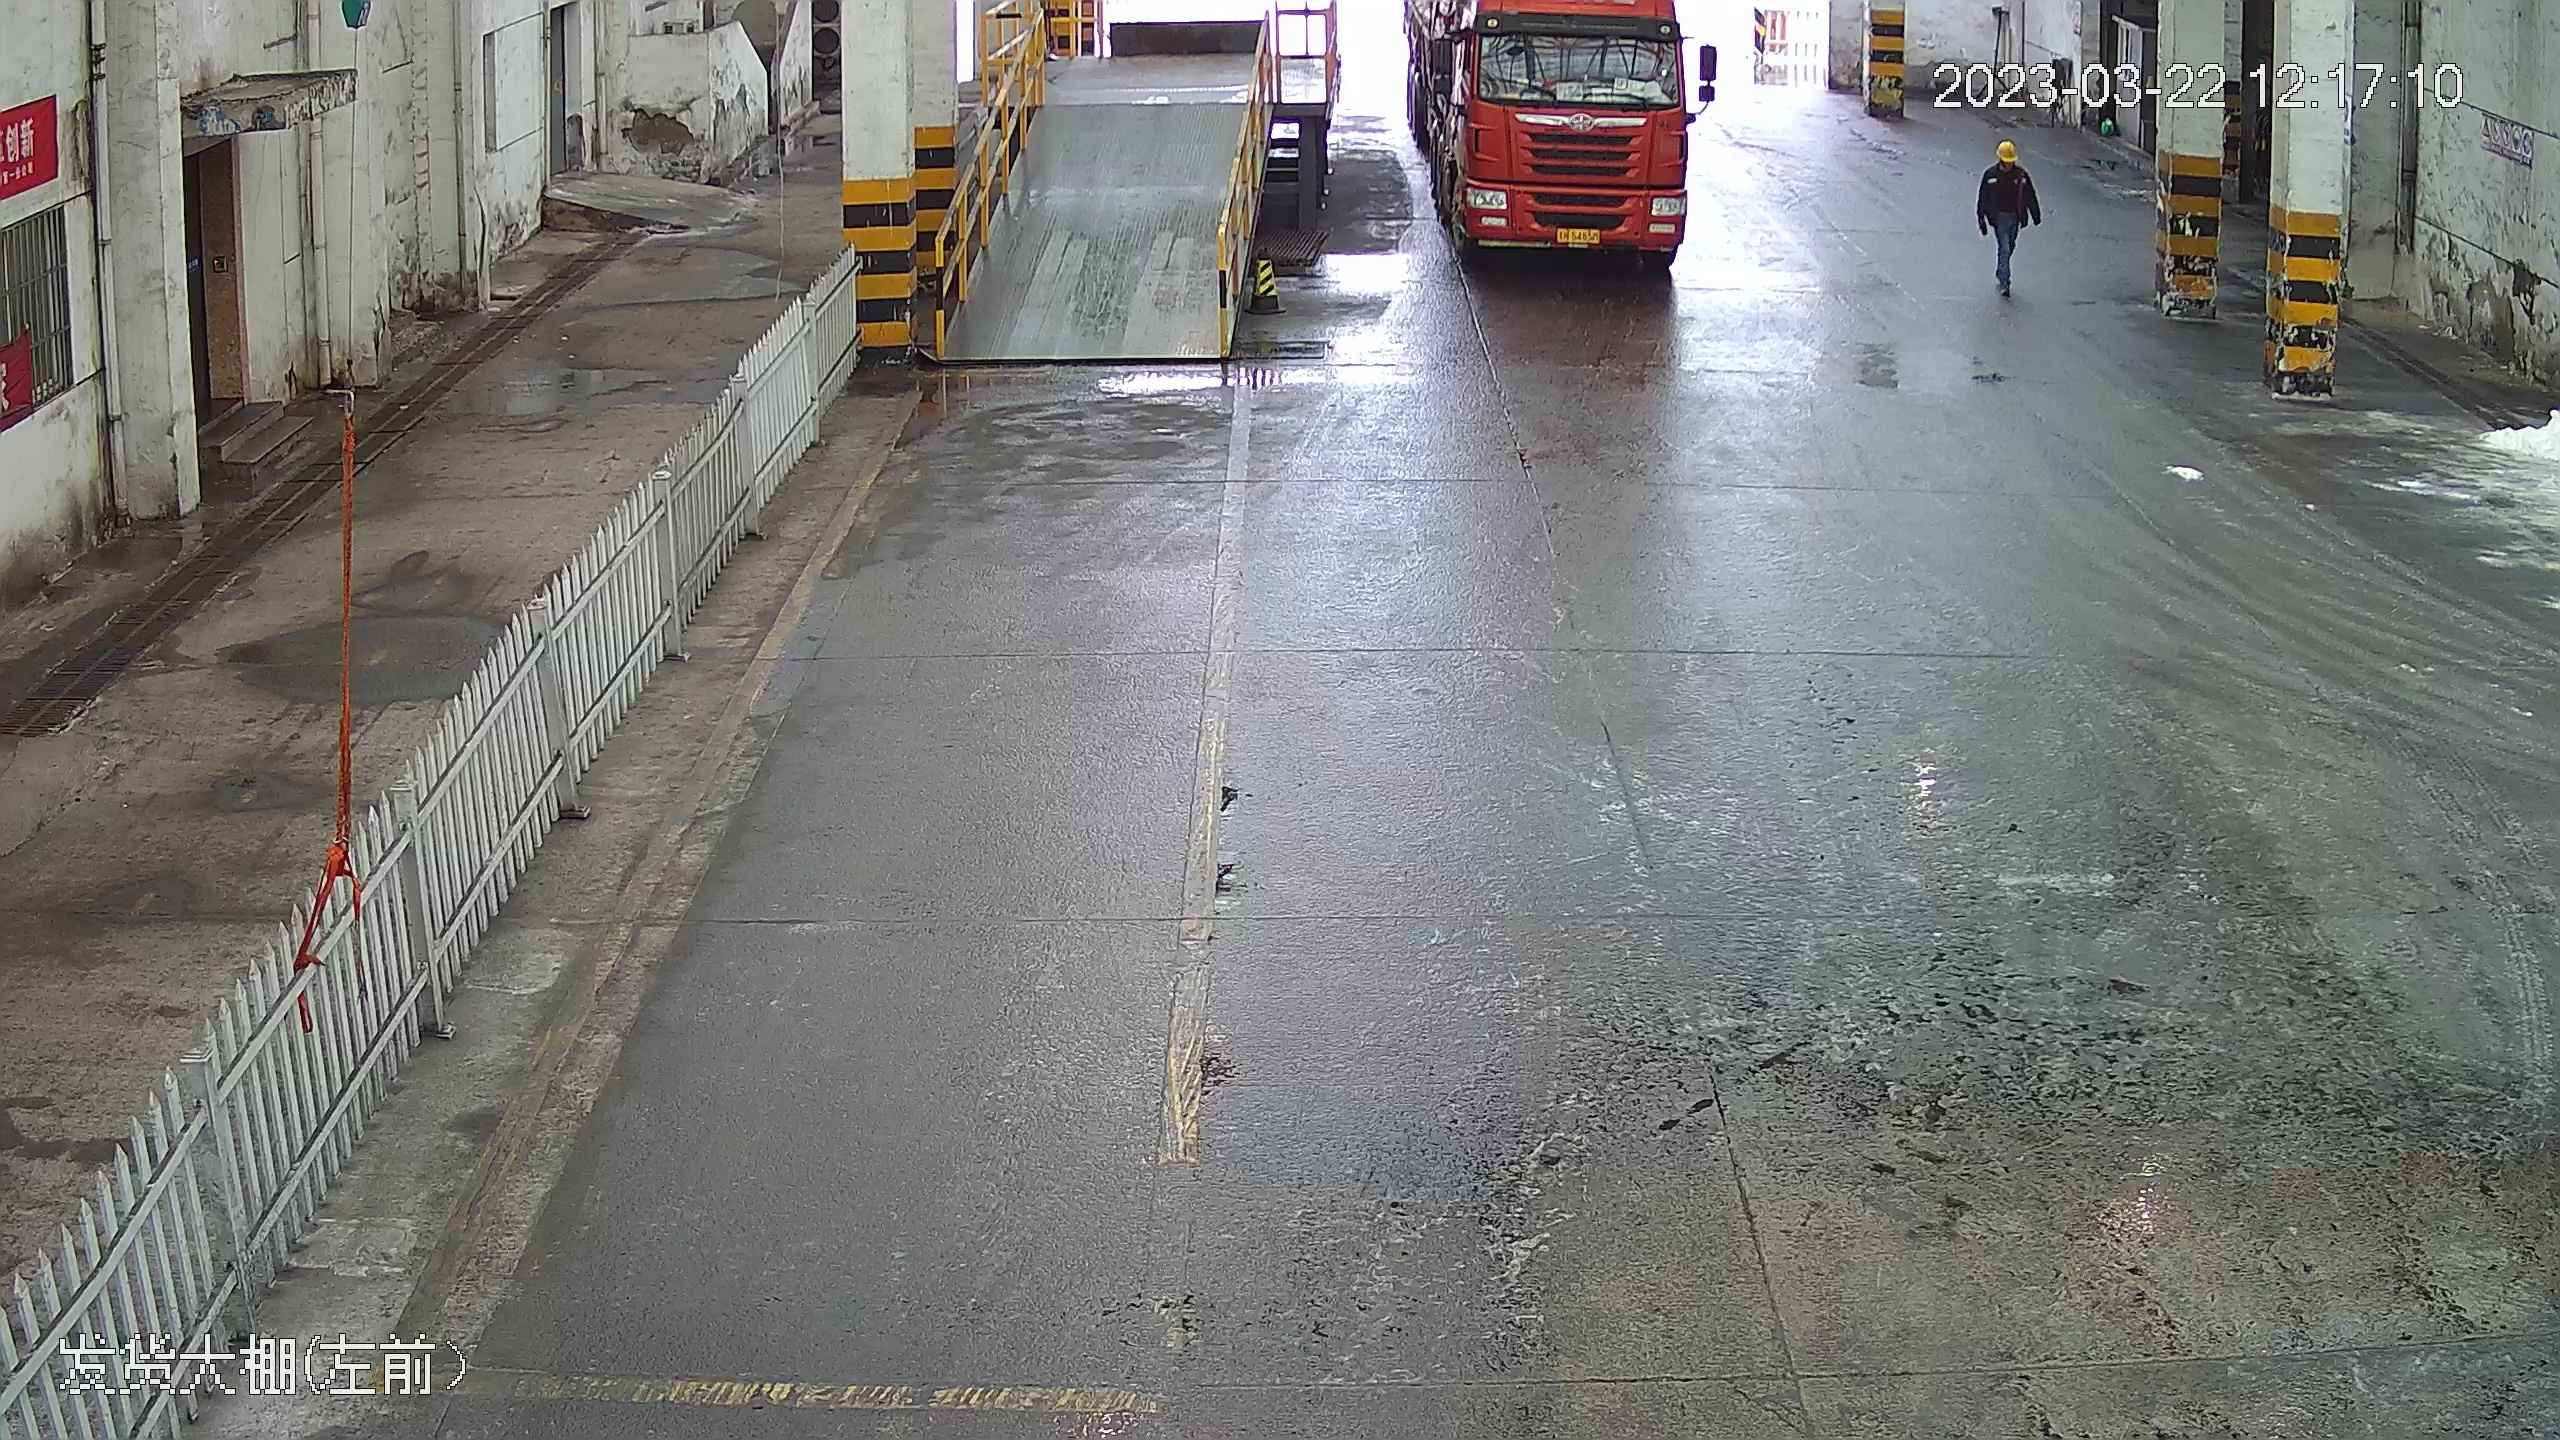head: (1981, 138, 2034, 192)
helmet: (1995, 138, 2020, 158)
people: (1973, 138, 2040, 306)
truck: (1407, 0, 1709, 267)
